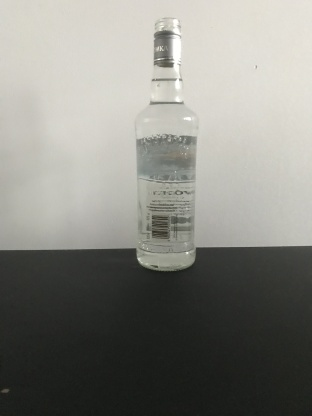nakretka: (151, 15, 183, 68)
